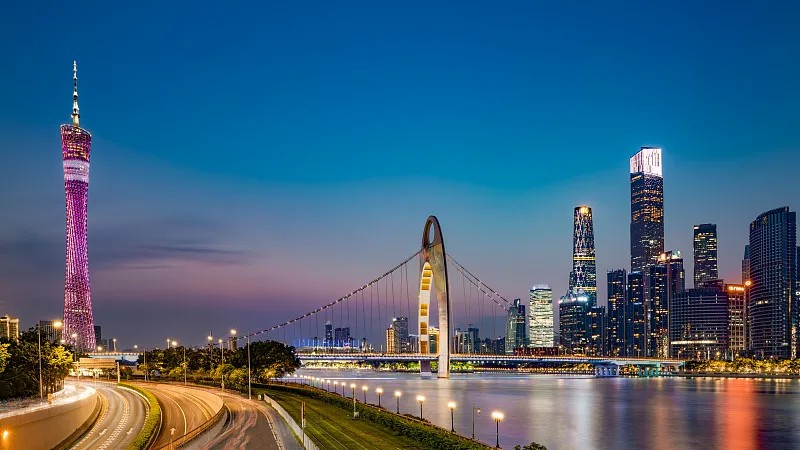Canton: (57, 61, 98, 350)
